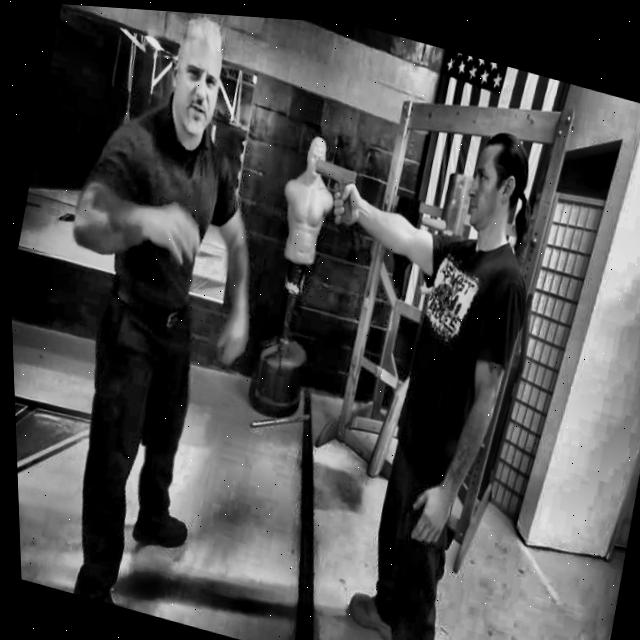pistol: (296, 139, 379, 241)
